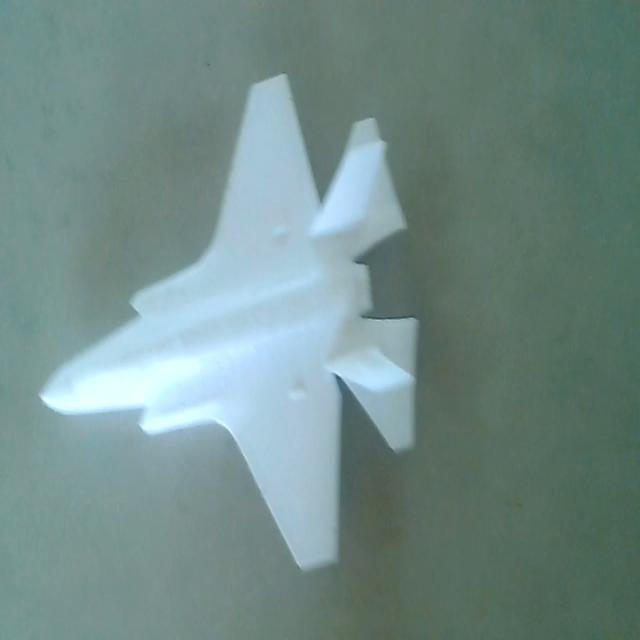Jet: (39, 65, 423, 580)
